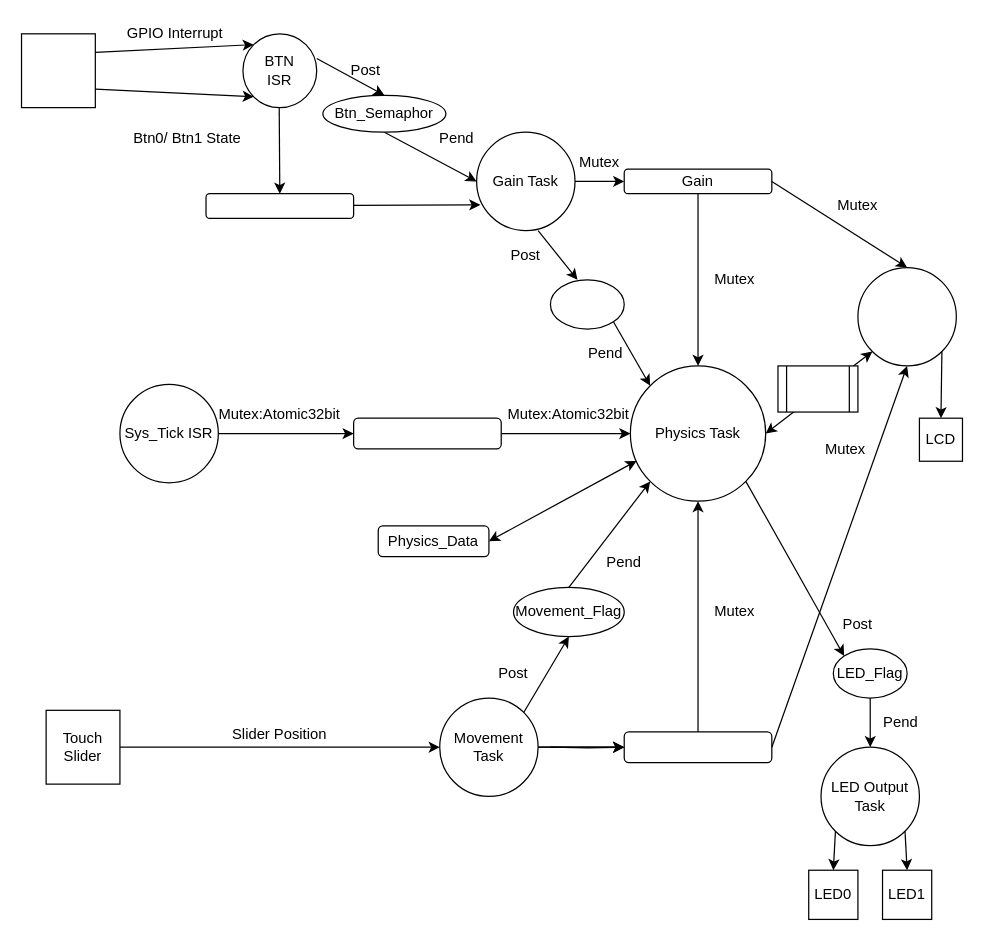
Some shapes in this 984 by 941 pixel diagram are drawn without their labels. Here are the shapes that lost their labels. From the top down, the centre of each, then its label:
the point at 57,70: Btn0/Btn1
the point at 279,205: BtnEventFIFO
the point at 586,304: Gain_Flag
the point at 906,316: LCD Display Task
the point at 817,388: Message Queue
the point at 426,433: Time
the point at 697,747: Movement
